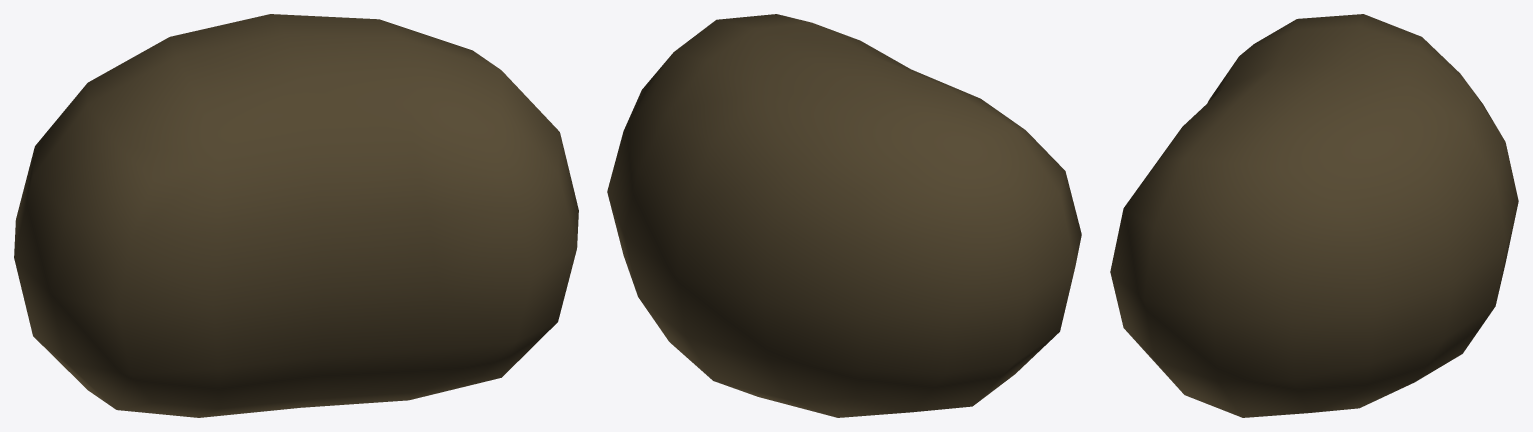
Rendered from microscopic-pollen-spores-cyst_v1.glb.
3 renders of one model, left to right at view 1: azimuth 30°, elevation 25°; view 2: azimuth 150°, elevation 25°; view 3: azimuth 270°, elevation 25°, orthographic. The views are drawn at different scales.
Parts seen in each view (by area): view 1: Cyst; view 2: Cyst; view 3: Cyst.
Boxes of the visible parts, <box> form: Cyst: <box>14,14,578,417</box>; Cyst: <box>607,14,1081,417</box>; Cyst: <box>1110,14,1518,417</box>.
Size of the model in its own units: 0.2 by 0.1378 by 0.1624.
